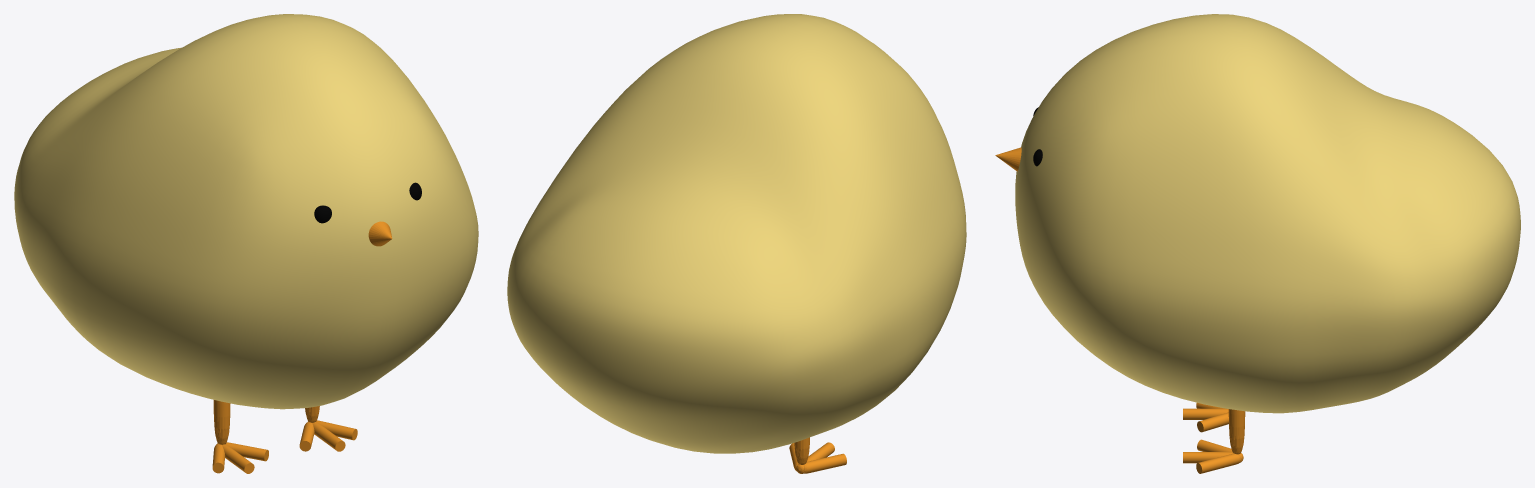
File: bird.glb
The picture shows the model from 3 angles, left to right: view 1: azimuth 30°, elevation 25°; view 2: azimuth 150°, elevation 25°; view 3: azimuth 270°, elevation 25°; orthographic projection. The views are drawn at different scales.
Visible parts, largest first — view 1: body, foot; view 2: body, foot; view 3: body, foot.
Boxes of the visible parts, x1,y1,x2,y2 form: body: (14,14,478,409); foot: (212,400,357,473); body: (507,14,966,453); foot: (789,437,846,473); body: (1015,14,1520,413); foot: (1183,402,1245,473).
Bounding box in the file's own units: 1.71 × 1.9 × 2.19.
